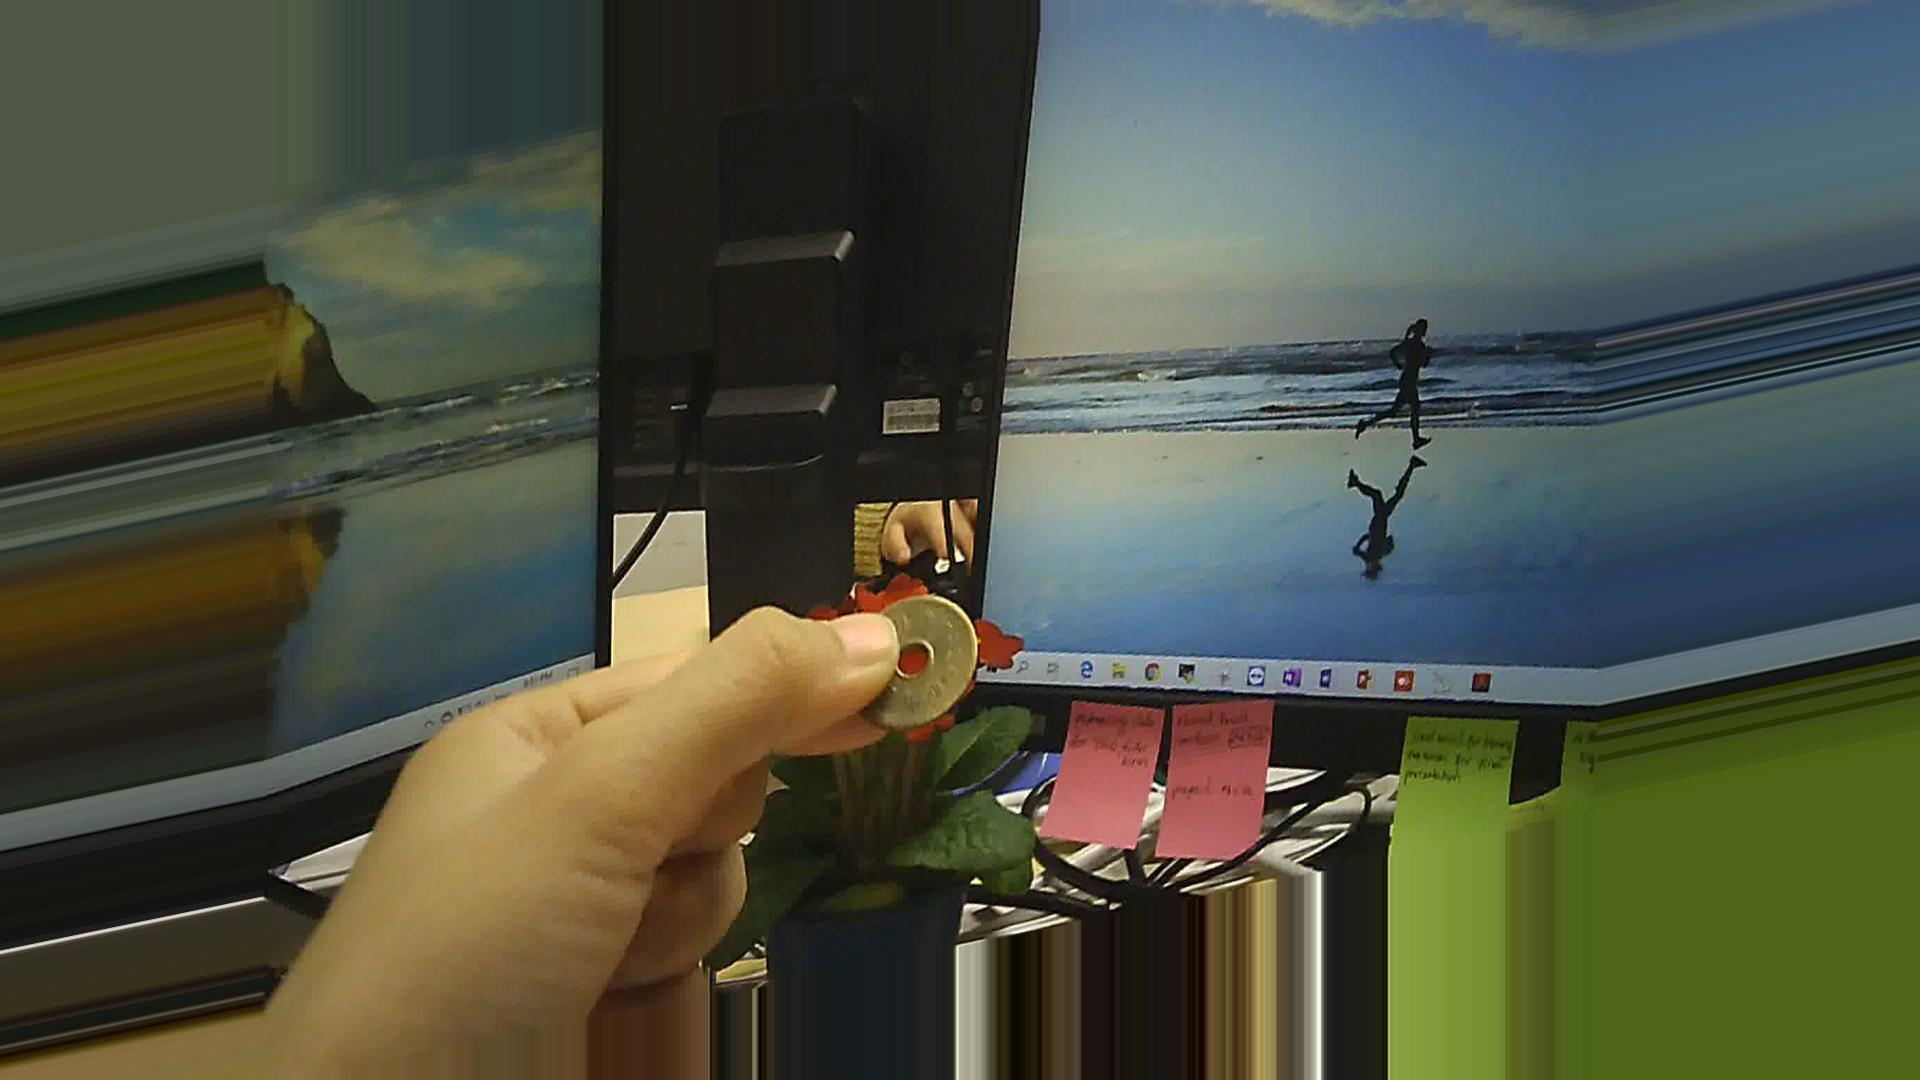5 Yen: (847, 583, 975, 717)
